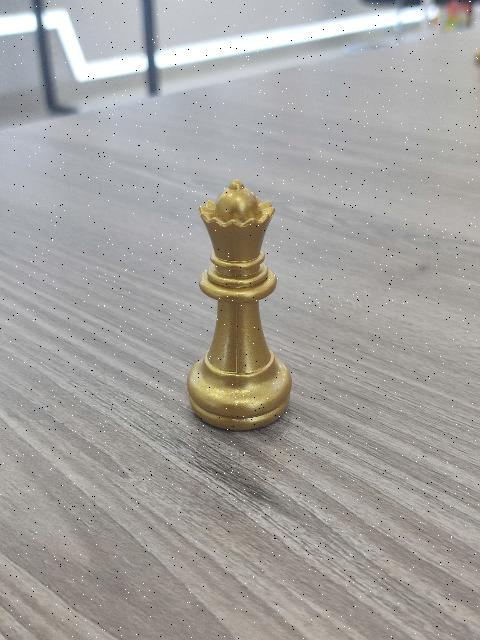black_queen: (185, 176, 297, 432)
